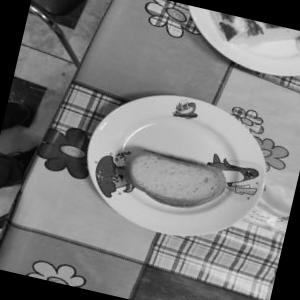bread: (112, 121, 246, 220)
